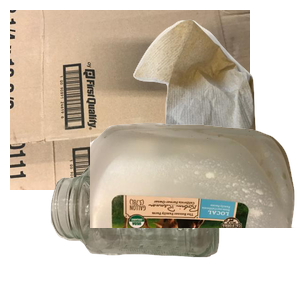cardboard: (10, 10, 250, 190)
glass: (48, 156, 260, 300)
plastic: (90, 120, 300, 300)
trash: (131, 17, 300, 197)
